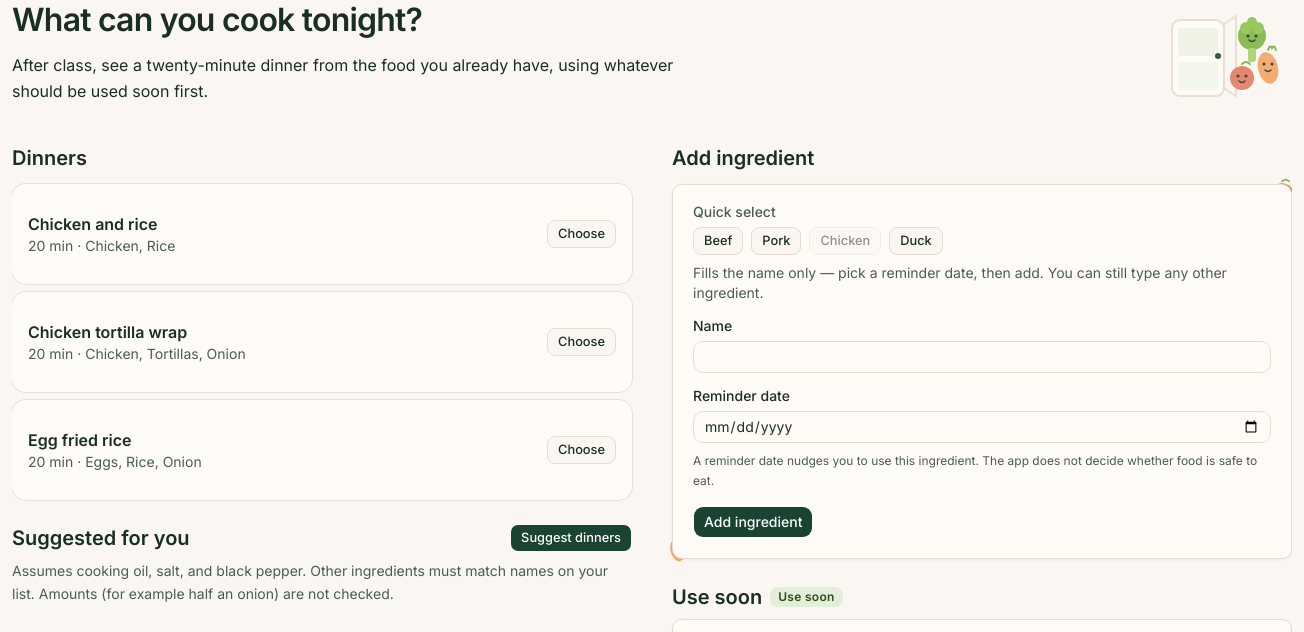
Test case: KitchenApp › shows dinner steps after choosing a meal
Expected: the heading "Dinners" is shown, [12,146,87,170]
Click the button "Choose" in the row of "Chicken, Rice" at (582, 234), box [547,220,616,248]
(page scrolled)
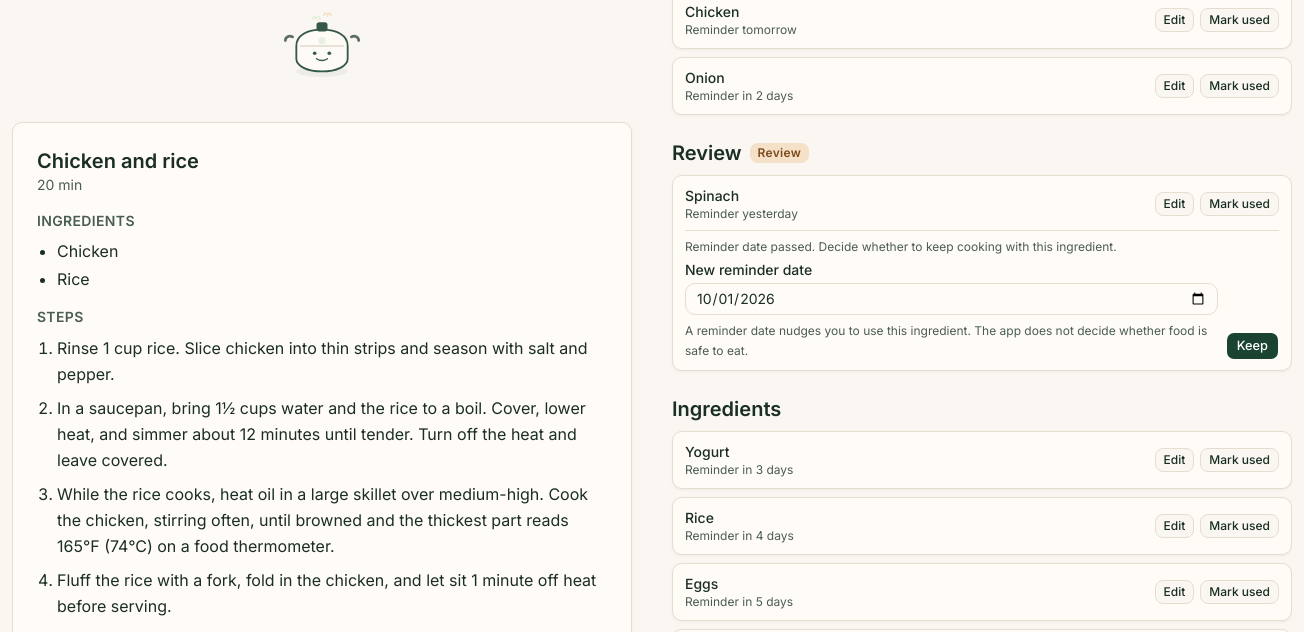
Result: the heading "Chicken and rice" is shown at [37,148,199,172]
Result: the heading "Ingredients" below "Suggested for you" is shown at [37,212,135,228]
Result: the list item "Rinse 1 cup rice" is shown at [57,338,588,384]
